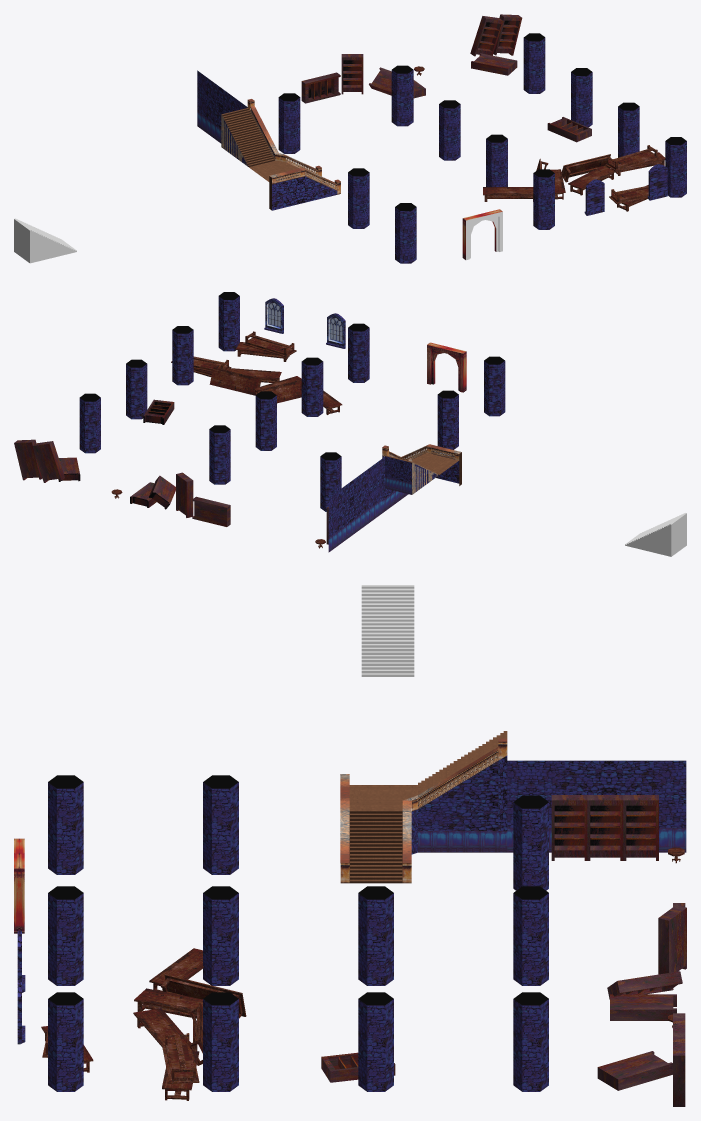
Rendered from ROOM3_Objects.fbx.
The picture shows the model from 3 angles, top to bottom: view 1: azimuth 30°, elevation 25°; view 2: azimuth 150°, elevation 25°; view 3: azimuth 270°, elevation 25°; orthographic projection. The views are drawn at different scales.
Parts seen in each view (by area): view 1: Stairs, as, Cube.003, Cylinder, Cylinder.012, Cylinder.001, Cylinder.005, Cylinder.006, Cylinder.011, Cylinder.009, Cylinder.004, Cylinder.002 (+17 smaller); view 2: Stairs, Cube.003, as, Cylinder.010, Cylinder.001, Cylinder.006, Cylinder.003, Cylinder.011, Cylinder.009, Cylinder, Cylinder.002, Cylinder.004 (+16 smaller); view 3: Stairs, Cube.003, as.001, Cylinder.002, Cylinder.001, Cylinder.004, Cylinder.005, Cylinder.010, Cylinder, Cylinder.003, Cylinder.006, Cylinder.009 (+18 smaller).
Part boxes in pixels (x1,y1,x2,y2): Stairs: [197, 70, 340, 210]; as: [221, 108, 274, 166]; Cube.003: [14, 218, 76, 263]; Cylinder: [391, 65, 413, 126]; Cylinder.012: [278, 93, 300, 153]; Cylinder.001: [523, 33, 545, 93]; Cylinder.005: [348, 168, 369, 228]; Cylinder.006: [395, 203, 416, 263]; Cylinder.011: [533, 169, 554, 229]; Cylinder.009: [439, 100, 460, 160]; Cylinder.004: [665, 137, 686, 197]; Cylinder.002: [571, 68, 592, 127]; Stairs: [328, 444, 461, 552]; Cube.003: [625, 513, 686, 556]; as: [385, 455, 438, 494]; Cylinder.010: [301, 357, 323, 416]; Cylinder.001: [79, 393, 100, 453]; Cylinder.006: [484, 356, 505, 416]; Cylinder.003: [172, 326, 193, 385]; Cylinder.011: [348, 323, 369, 382]; Cylinder.009: [255, 391, 276, 450]; Cylinder: [209, 425, 230, 484]; Cylinder.002: [126, 359, 147, 419]; Cylinder.004: [218, 292, 239, 351]; Stairs: [340, 738, 686, 883]; Cube.003: [361, 585, 414, 676]; as.001: [350, 813, 402, 883]; Cylinder.002: [358, 992, 393, 1091]; Cylinder.001: [513, 992, 548, 1091]; Cylinder.004: [48, 992, 83, 1091]; Cylinder.005: [203, 775, 238, 874]; Cylinder.010: [203, 886, 238, 985]; Cylinder: [513, 886, 548, 985]; Cylinder.003: [203, 992, 238, 1091]; Cylinder.006: [48, 775, 83, 874]; Cylinder.009: [358, 886, 393, 985].
Bounding box in the file's own units: 9340 × 1064 × 5640.
